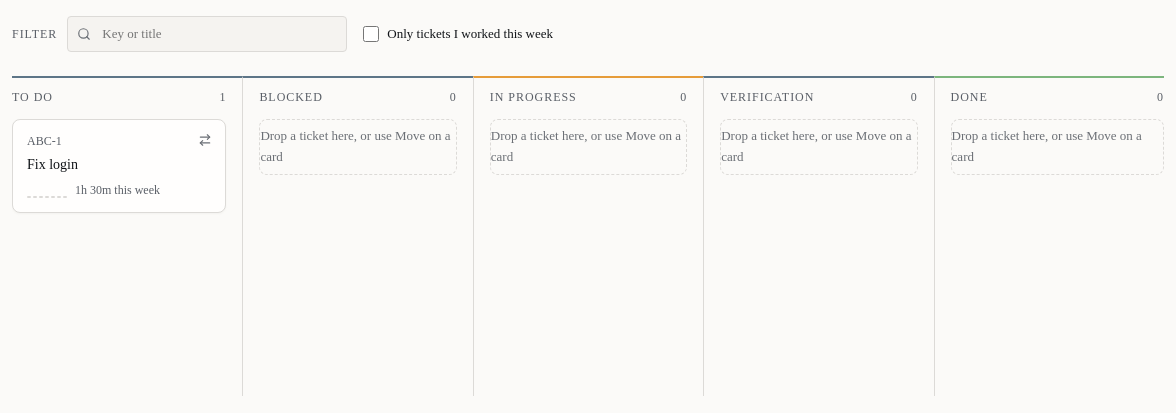
TaskBoard Move menu › lists only the other columns and has menu semantics
Click the button named "Move ABC-1".
click(205, 140)  # box [191,126,219,154]
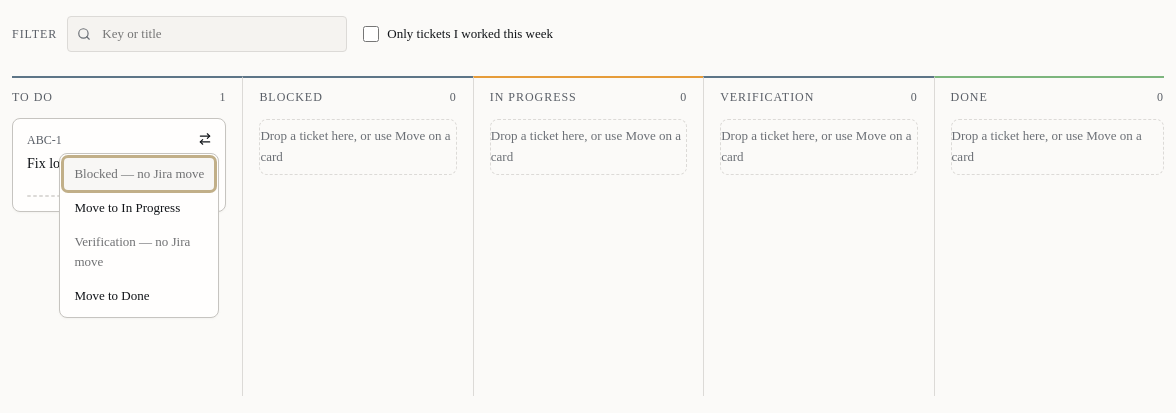
Check: the menu item "Move to Done" is shown, box [64,280,214,312]
Check: the menu items read "Blocked — no Jira move", "Move to In Progress", "Verification — no Jira move", "Move to Done", in this order, box [64,158,214,190]; [64,192,214,224]; [64,226,214,278]; [64,280,214,312]
